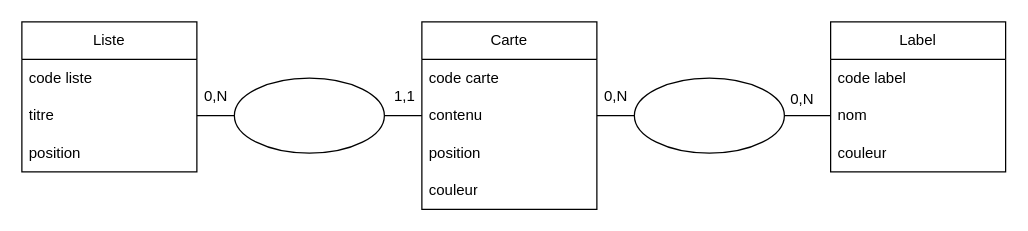
The diagram is 1028 pixels wide and 231 high, and some of its shapes have lost their labels. The shapes that lost their labels are listed below. From the top down, each one's centre as x and y in pixels, then its label:
At point 308,115: "CONTIENT".
At point 708,115: "CARACTERISE".
